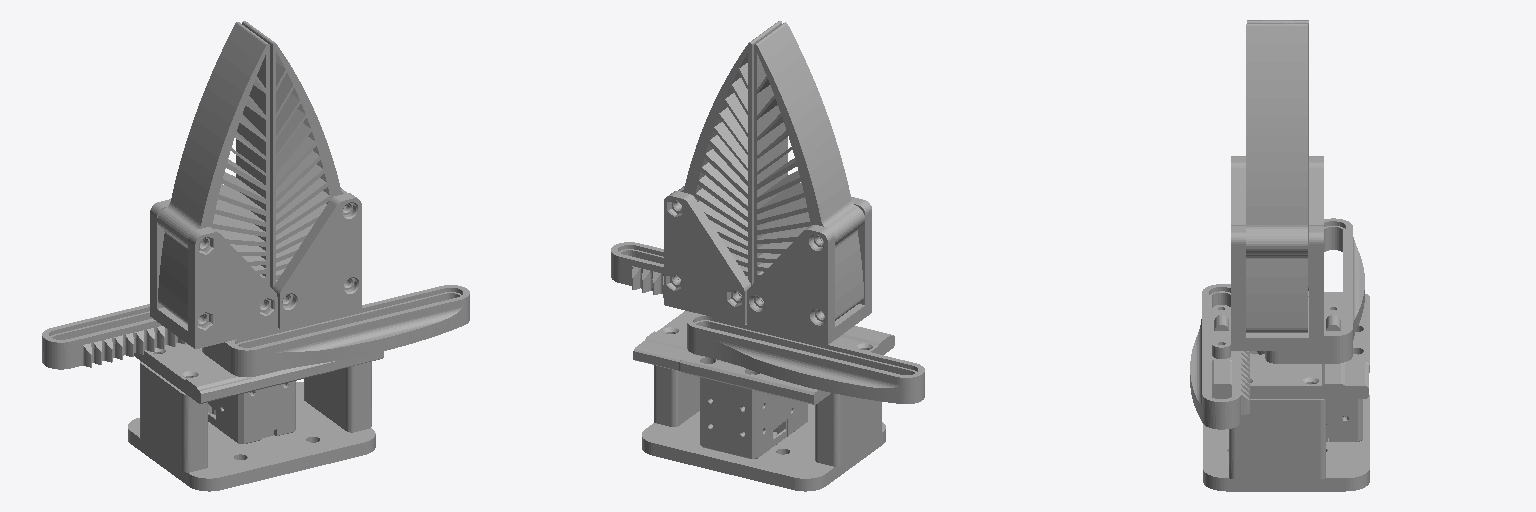
The robot description file, URDF, robot "gripper_urdf":
<?xml version="1.0" ?>
<!-- =================================================================================== -->
<!-- |    This document was autogenerated by xacro from urdf_tmp/gripper_urdf.xacro    | -->
<!-- |    EDITING THIS FILE BY HAND IS NOT RECOMMENDED                                 | -->
<!-- =================================================================================== -->
<robot name="gripper_urdf">
  <material name="silver">
    <color rgba="0.700 0.700 0.700 1.000"/>
  </material>
  <transmission name="finger1_slider_tran">
    <type>transmission_interface/SimpleTransmission</type>
    <joint name="finger1_slider">
      <hardwareInterface>hardware_interface/EffortJointInterface</hardwareInterface>
    </joint>
    <actuator name="finger1_slider_actr">
      <hardwareInterface>hardware_interface/EffortJointInterface</hardwareInterface>
      <mechanicalReduction>1</mechanicalReduction>
    </actuator>
  </transmission>
  <transmission name="finger2_slider_tran">
    <type>transmission_interface/SimpleTransmission</type>
    <joint name="finger2_slider">
      <hardwareInterface>hardware_interface/EffortJointInterface</hardwareInterface>
    </joint>
    <actuator name="finger2_slider_actr">
      <hardwareInterface>hardware_interface/EffortJointInterface</hardwareInterface>
      <mechanicalReduction>1</mechanicalReduction>
    </actuator>
  </transmission>
  <gazebo>
    <plugin filename="libgazebo_ros_control.so" name="control"/>
  </gazebo>
  <gazebo reference="base_link">
    <material>Gazebo/Silver</material>
    <mu1>0.2</mu1>
    <mu2>0.2</mu2>
    <self_collide>true</self_collide>
    <gravity>true</gravity>
  </gazebo>
  <gazebo reference="finger1_1">
    <material>Gazebo/Silver</material>
    <mu1>0.2</mu1>
    <mu2>0.2</mu2>
    <self_collide>true</self_collide>
  </gazebo>
  <gazebo reference="finger2_1">
    <material>Gazebo/Silver</material>
    <mu1>0.2</mu1>
    <mu2>0.2</mu2>
    <self_collide>true</self_collide>
  </gazebo>
  <link name="base_link">
    <inertial>
      <origin rpy="0 0 0" xyz="-3.8976421872587524e-05 0.005031022969519505 -0.018471415017622762"/>
      <mass value="1.1963260015017612"/>
      <inertia ixx="0.000695" ixy="-0.0" ixz="1e-06" iyy="0.001149" iyz="6e-06" izz="0.001162"/>
    </inertial>
    <visual>
      <origin rpy="0 0 0" xyz="0 0 0"/>
      <geometry>
        <mesh filename="meshes/base_link.stl" scale="0.001 0.001 0.001"/>
      </geometry>
      <material name="silver"/>
    </visual>
    <collision>
      <origin rpy="0 0 0" xyz="0 0 0"/>
      <geometry>
        <mesh filename="meshes/base_link.stl" scale="0.001 0.001 0.001"/>
      </geometry>
    </collision>
  </link>
  <link name="finger1_1">
    <inertial>
      <origin rpy="0 0 0" xyz="0.006267940831225318 -0.019307371798998357 0.037197711345199495"/>
      <mass value="0.7015582516227633"/>
      <inertia ixx="0.000915" ixy="0.000115" ixz="-0.000163" iyy="0.001242" iyz="0.0001" izz="0.000564"/>
    </inertial>
    <visual>
      <origin rpy="0 0 0" xyz="-0.005 -0.023 -0.01025"/>
      <geometry>
        <mesh filename="meshes/finger1_1.stl" scale="0.001 0.001 0.001"/>
      </geometry>
      <material name="silver"/>
    </visual>
    <collision>
      <origin rpy="0 0 0" xyz="-0.005 -0.023 -0.01025"/>
      <geometry>
        <mesh filename="meshes/finger1_1.stl" scale="0.001 0.001 0.001"/>
      </geometry>
    </collision>
  </link>
  <link name="finger2_1">
    <inertial>
      <origin rpy="0 0 0" xyz="-0.016267982103923186 0.01930737450738287 0.03719773168129449"/>
      <mass value="0.7015578560870854"/>
      <inertia ixx="0.000915" ixy="0.000115" ixz="0.000163" iyy="0.001242" iyz="-0.0001" izz="0.000564"/>
    </inertial>
    <visual>
      <origin rpy="0 0 0" xyz="-0.005 0.023 -0.01025"/>
      <geometry>
        <mesh filename="meshes/finger2_1.stl" scale="0.001 0.001 0.001"/>
      </geometry>
      <material name="silver"/>
    </visual>
    <collision>
      <origin rpy="0 0 0" xyz="-0.005 0.023 -0.01025"/>
      <geometry>
        <mesh filename="meshes/finger2_1.stl" scale="0.001 0.001 0.001"/>
      </geometry>
    </collision>
  </link>
  <joint name="finger1_slider" type="prismatic">
    <origin rpy="0 0 0" xyz="0.005 0.023 0.01025"/>
    <parent link="base_link"/>
    <child link="finger1_1"/>
    <axis xyz="1.0 0.0 0.0"/>
    <limit effort="100" lower="0.0" upper="0.0" velocity="100"/>
  </joint>
  <joint name="finger2_slider" type="prismatic">
    <origin rpy="0 0 0" xyz="0.005 -0.023 0.01025"/>
    <parent link="base_link"/>
    <child link="finger2_1"/>
    <axis xyz="-1.0 0.0 0.0"/>
    <limit effort="100" lower="0.0" upper="0.0" velocity="100"/>
  </joint>
</robot>

--- Render facts (derived) ---
Views: 3 orthographic renders of the robot side by side, from view 1: azimuth 30°, elevation 25°; view 2: azimuth 150°, elevation 25°; view 3: azimuth 270°, elevation 25°.
Model gripper_urdf with 3 links and 2 joints (2 prismatic), rooted at base_link, posed every joint at zero.
Links seen in each view (by area): view 1: finger2_1, base_link, finger1_1; view 2: finger2_1, finger1_1, base_link; view 3: finger1_1, base_link, finger2_1.
Link boxes in pixels (x1=…): finger2_1: x1=150, y1=22, x2=469, y2=376; base_link: x1=128, y1=343, x2=383, y2=491; finger1_1: x1=42, y1=21, x2=361, y2=369; finger2_1: x1=611, y1=22, x2=871, y2=344; finger1_1: x1=664, y1=21, x2=924, y2=403; base_link: x1=633, y1=311, x2=894, y2=491; finger1_1: x1=1231, y1=24, x2=1364, y2=363; base_link: x1=1203, y1=292, x2=1369, y2=491; finger2_1: x1=1190, y1=20, x2=1323, y2=429.
Bounding box of the posed robot: 0.179 × 0.074 × 0.1924 m (x, y, z).
Meshes: 3 distinct files referenced, 3 mesh visuals loaded (3 binary STL).
